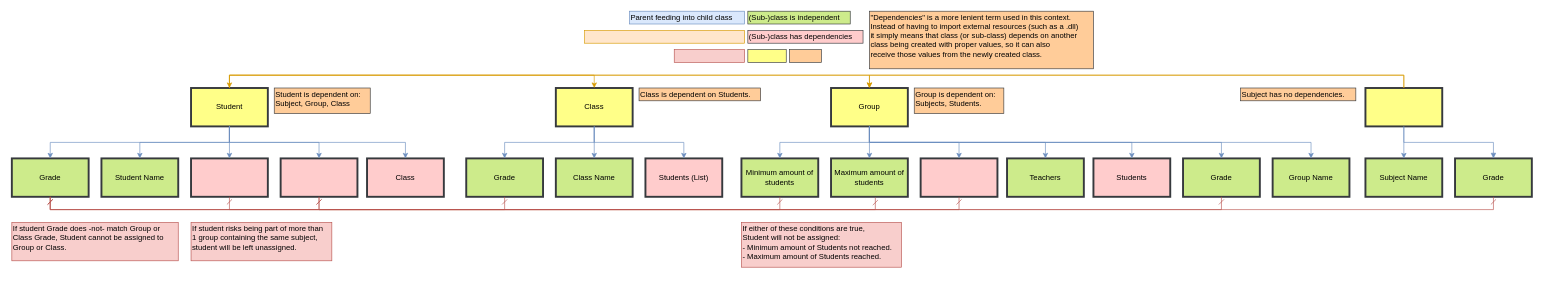
This 1544x282 diagram has some shape labels left out. Each missing label, with the centre of its shape:
"Groups" goes at point 318,177.
"Notes" goes at point 805,55.
"Parent class feeding into other parent class" goes at point 664,36.
"Parents" goes at point 766,55.
"Special condition" goes at point 709,55.
"Subject" goes at point 1403,107.
"Subjects" goes at point 229,177.
"Subjects (List)" goes at point 958,177.
